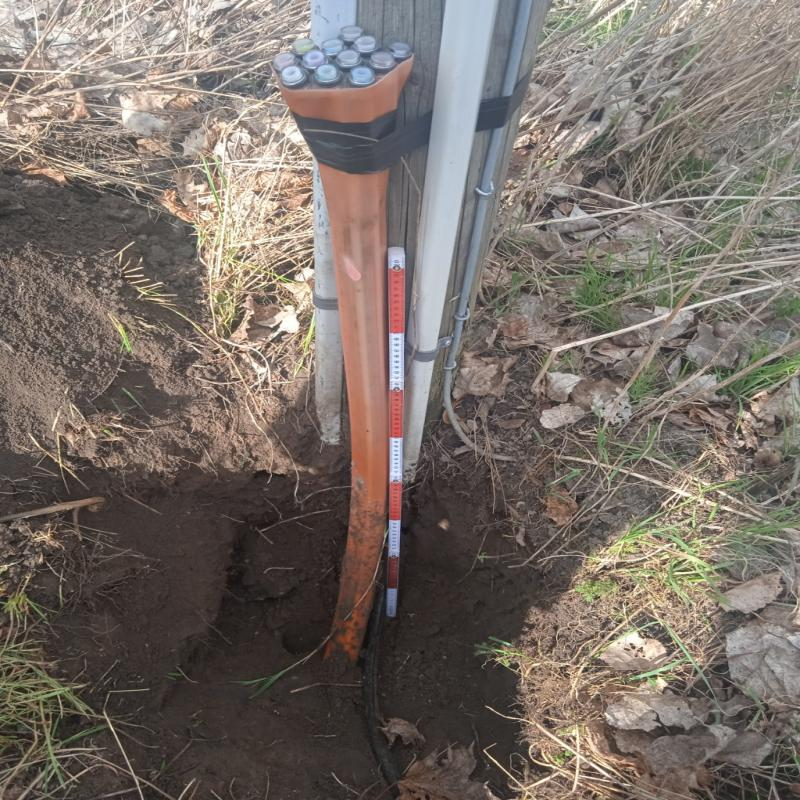Orang-Speednetrohrchen: (270, 25, 418, 659)
